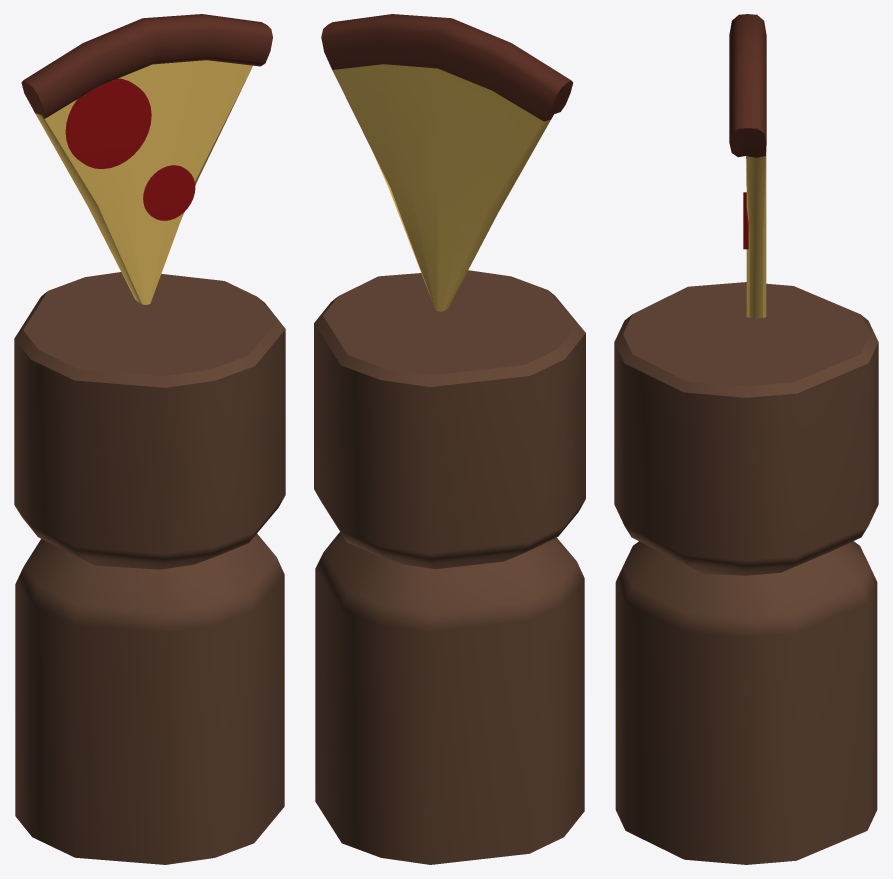
File: pizza tower.fbx
3 renders of one model, left to right at view 1: azimuth 30°, elevation 25°; view 2: azimuth 150°, elevation 25°; view 3: azimuth 270°, elevation 25°, orthographic. The views are drawn at different scales.
Visible parts, largest first — view 1: Cylinder.002; view 2: Cylinder.002; view 3: Cylinder.002.
Boxes of the visible parts, left/top/right/bottom form: Cylinder.002: left=14, top=14, right=285, bottom=864; Cylinder.002: left=314, top=14, right=585, bottom=864; Cylinder.002: left=614, top=14, right=878, bottom=864.
Bounding box in the file's own units: 200 × 630 × 196.
